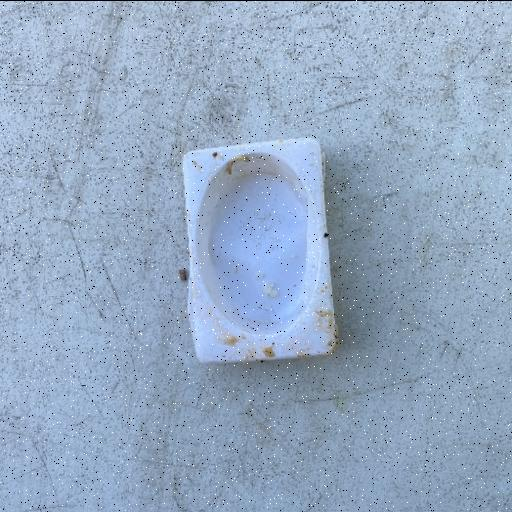Plastic: (180, 136, 340, 364)
